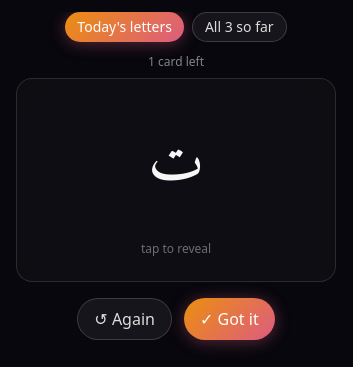
Scenario: LetterFlashcards scope toggle › defaults to today's letters and can switch to all
Expected: the text "1 card left" is shown, [148,53,204,70]
Click the button "All 3 so far" at (239, 27), box [192,12,287,42]
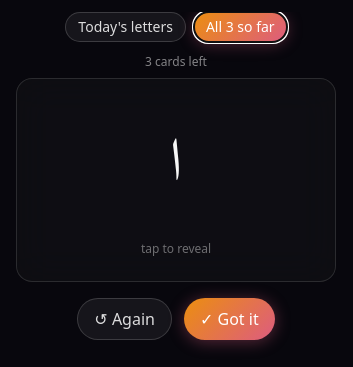
Now the text "3 cards left" is shown, box [145,53,207,70]
